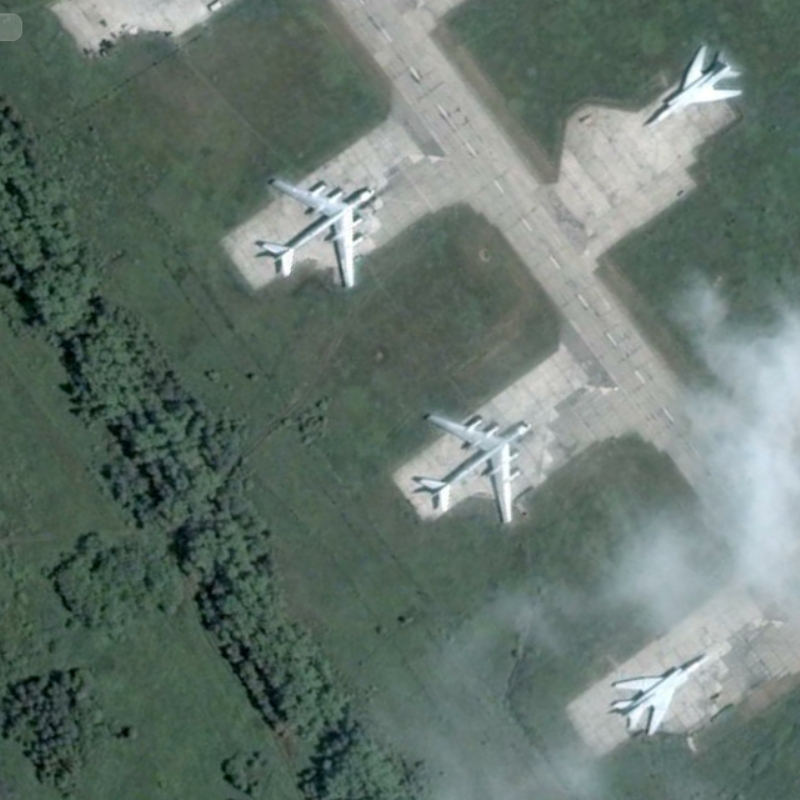A12: (643, 43, 745, 128), (612, 652, 711, 737)
A17: (259, 176, 377, 290), (415, 412, 533, 525)
